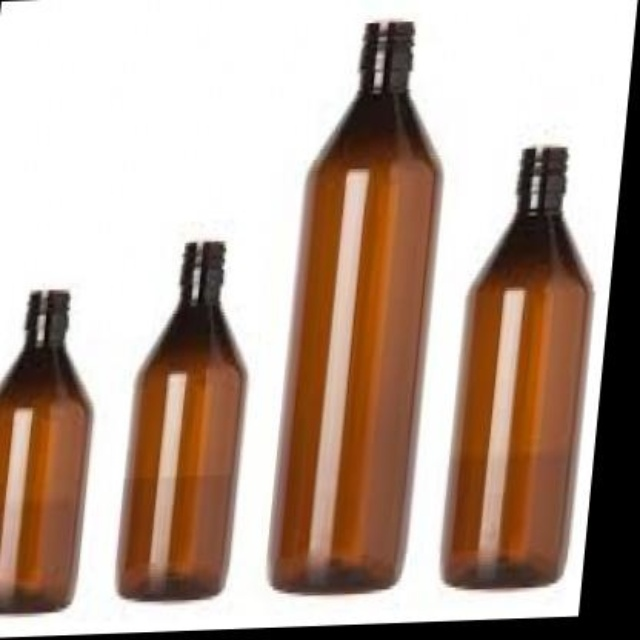trash: (271, 22, 438, 591), (443, 148, 589, 586), (118, 242, 245, 598)
